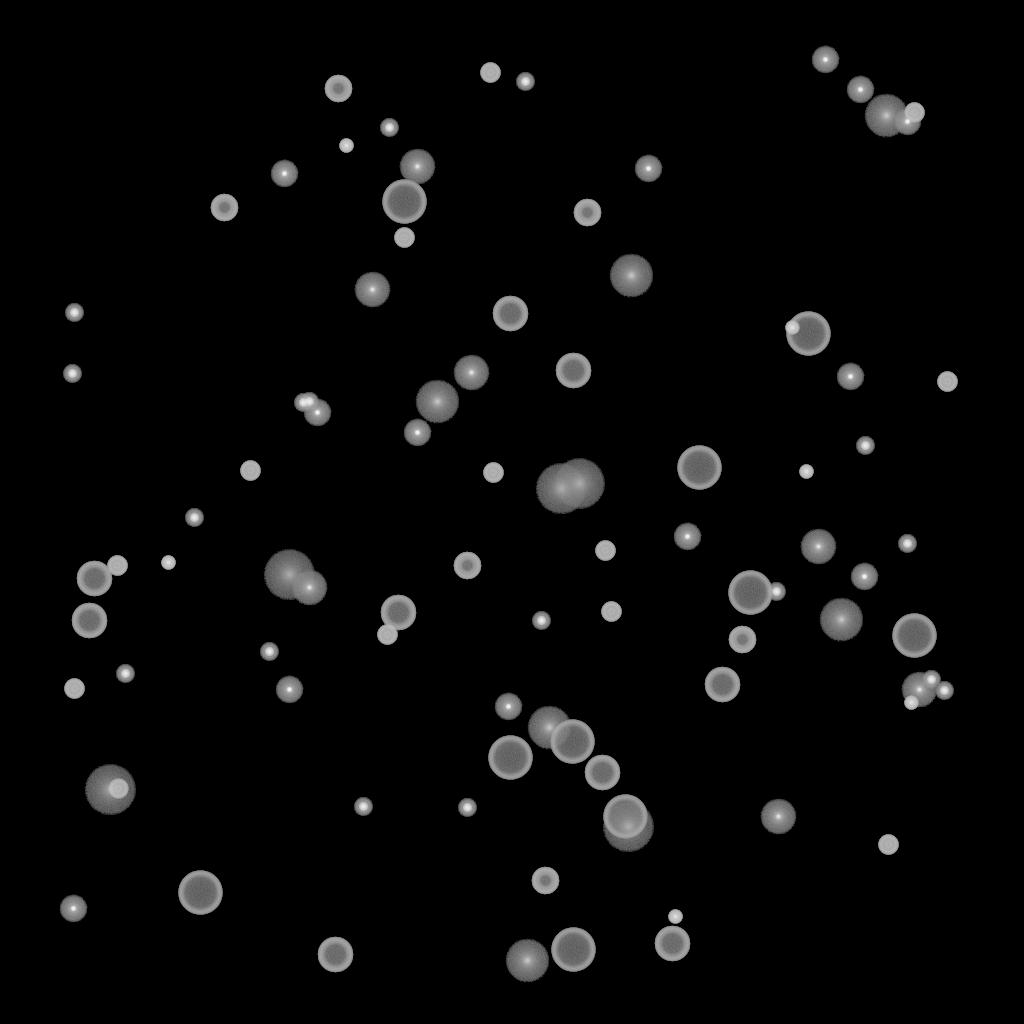depth:-10: (59, 895, 87, 923), (275, 676, 303, 704), (893, 108, 921, 136), (836, 363, 864, 391), (634, 155, 662, 183), (303, 399, 331, 427), (494, 693, 522, 721), (811, 46, 839, 74), (403, 419, 431, 447), (846, 76, 874, 104), (270, 160, 298, 188), (850, 563, 878, 591), (673, 523, 701, 551)
depth:-20: (516, 73, 534, 91), (458, 799, 476, 817), (260, 643, 278, 661), (898, 535, 916, 553), (65, 304, 83, 322), (767, 583, 785, 601), (922, 671, 940, 689), (532, 612, 550, 630), (354, 798, 372, 816), (294, 394, 312, 412), (935, 682, 953, 700), (300, 393, 318, 411), (185, 509, 203, 527), (856, 437, 874, 455), (63, 365, 81, 383), (116, 665, 134, 683), (380, 119, 398, 137)
depth:-30: (904, 696, 918, 710), (339, 139, 353, 153), (668, 910, 682, 924), (785, 321, 799, 335), (799, 465, 813, 479), (161, 556, 175, 570)
depth:-40: (937, 372, 957, 392), (480, 63, 500, 83), (595, 541, 615, 561), (394, 228, 414, 248), (64, 679, 84, 699), (878, 835, 898, 855), (108, 779, 128, 799), (601, 602, 621, 622), (904, 103, 924, 123), (107, 556, 127, 576), (240, 461, 260, 481), (377, 625, 397, 645), (483, 463, 503, 483)
depth:-50: (573, 199, 601, 227), (728, 626, 756, 654), (531, 867, 559, 895), (210, 194, 238, 222), (453, 552, 481, 580), (324, 75, 352, 103)
depth:-60: (492, 296, 528, 332), (71, 603, 107, 639), (704, 667, 740, 703), (380, 595, 416, 631), (317, 937, 353, 973), (654, 926, 690, 962), (584, 755, 620, 791), (76, 561, 112, 597), (555, 353, 591, 389)
depth:-70: (178, 871, 222, 915), (603, 795, 647, 839), (892, 614, 936, 658), (551, 928, 595, 972), (382, 180, 426, 224), (677, 446, 721, 490), (550, 720, 594, 764), (728, 571, 772, 615), (488, 736, 532, 780), (786, 312, 830, 356)
depth:0: (800, 529, 836, 565), (291, 570, 327, 606), (901, 672, 937, 708), (760, 799, 796, 835), (354, 272, 390, 308), (399, 149, 435, 185), (453, 355, 489, 391)
depth:10: (527, 706, 571, 750), (819, 598, 863, 642), (609, 254, 653, 298), (864, 94, 908, 138), (505, 939, 549, 983), (415, 380, 459, 424)
depth:20: (535, 464, 587, 514), (263, 550, 315, 600), (602, 802, 654, 852), (553, 459, 605, 509), (84, 765, 136, 815)
